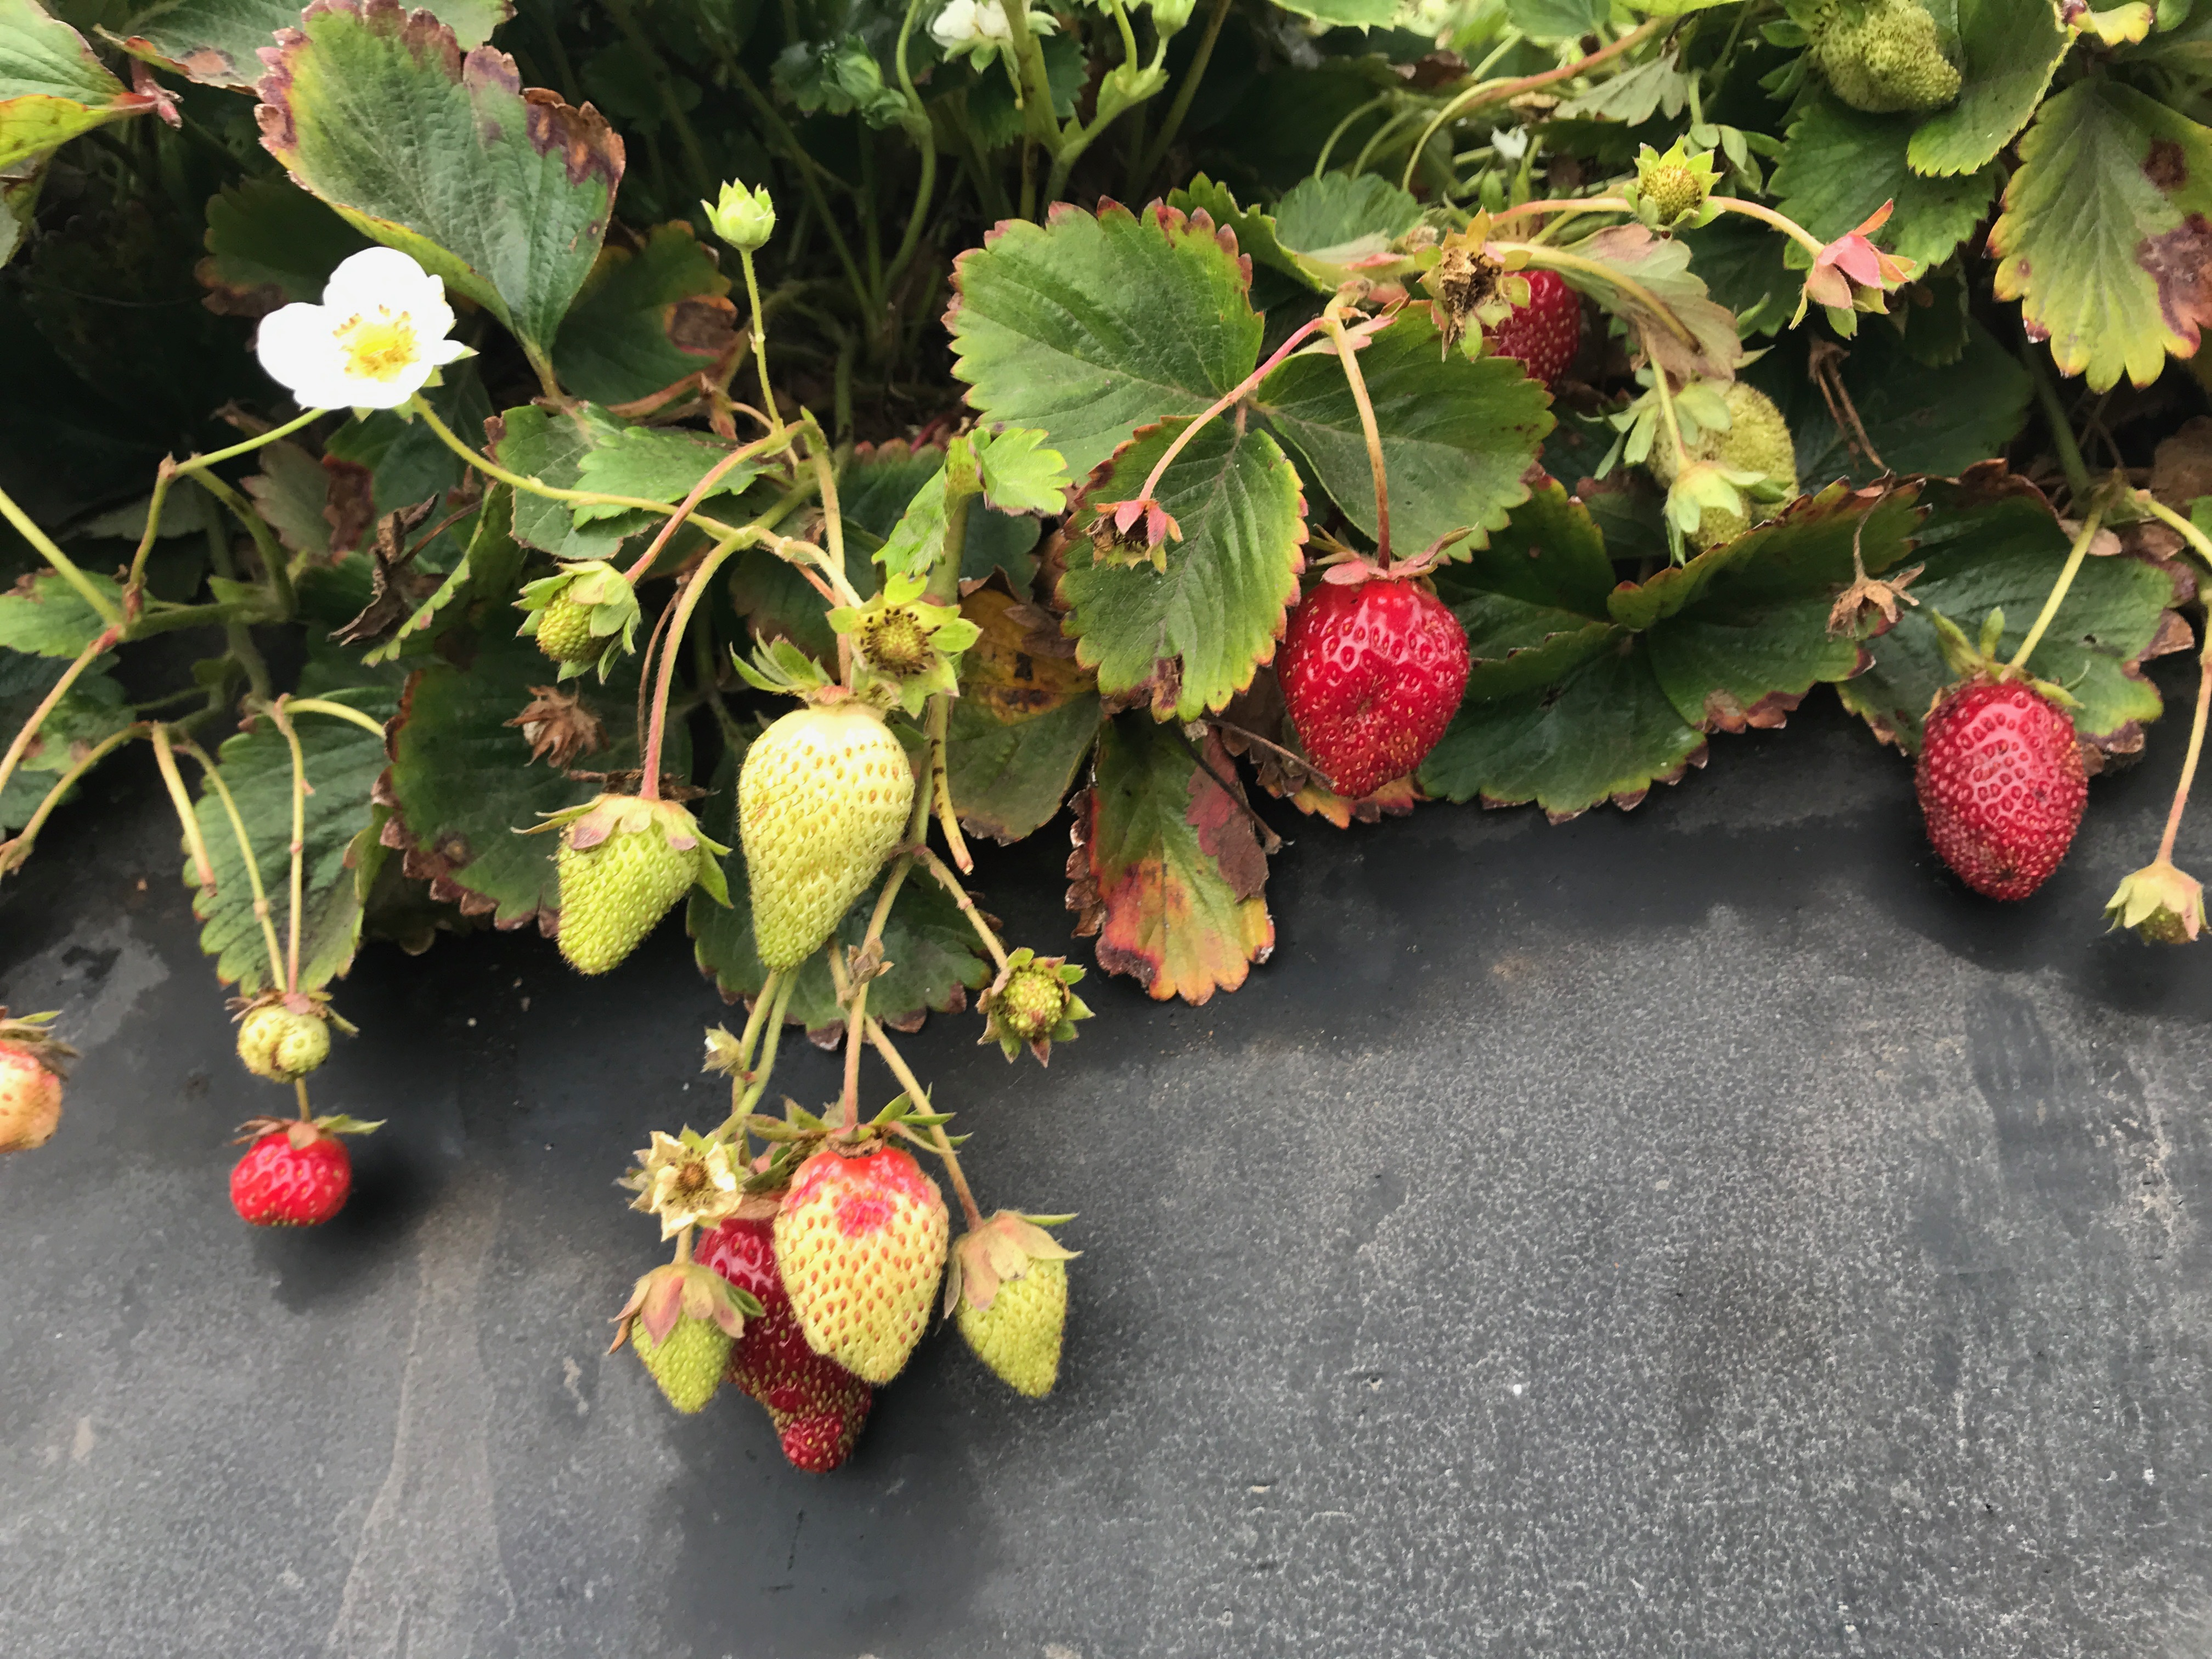ripe_strawberry: (691, 1168, 881, 1478), (1275, 552, 1477, 805), (1912, 666, 2097, 913), (620, 1251, 749, 1417), (225, 1108, 366, 1236), (1475, 265, 1588, 399)
unripe_strawberry: (737, 687, 921, 976), (770, 1115, 960, 1391), (545, 782, 716, 981), (1644, 369, 1803, 526), (953, 1211, 1076, 1408), (1813, 0, 1968, 122), (521, 561, 644, 671), (0, 1007, 71, 1168), (233, 992, 338, 1082), (1670, 457, 1761, 551), (991, 957, 1069, 1051), (1627, 153, 1710, 230)
